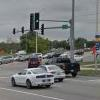Traffic light: (27, 8, 51, 35)
